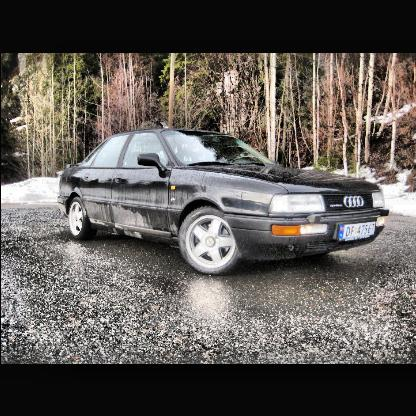Audi V8 Sedan 1994: (59, 129, 390, 275)
